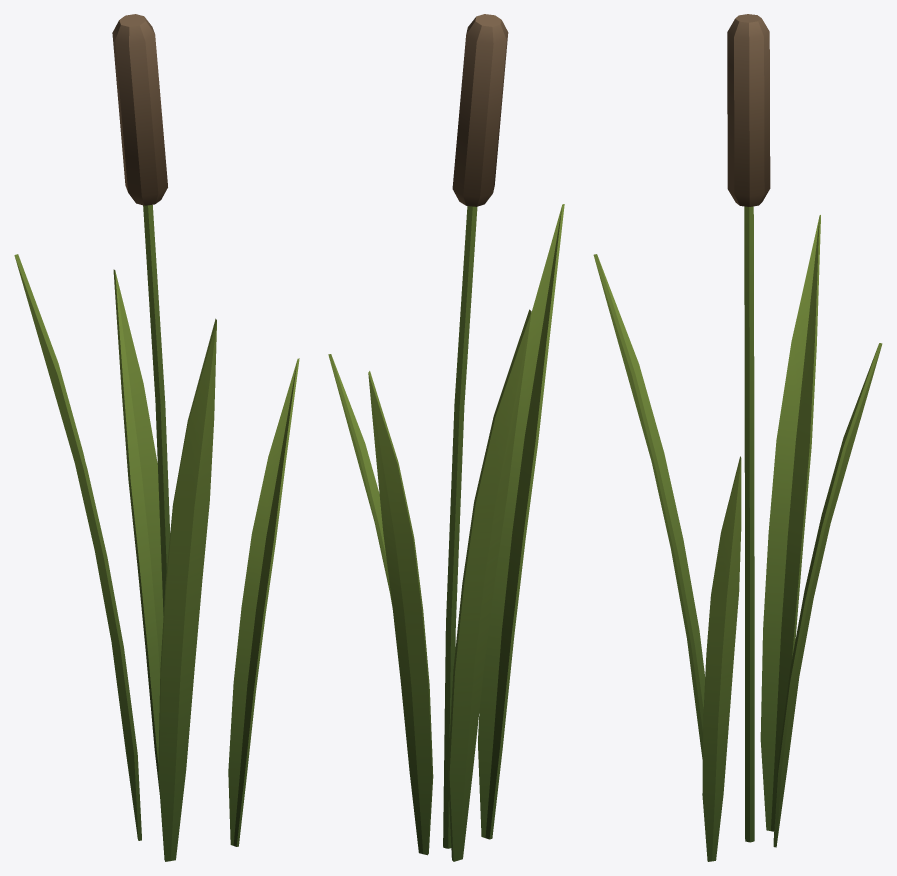
Rendered from PondPlant_06.fbx.
The picture shows the model from 3 angles, left to right: view 1: azimuth 30°, elevation 25°; view 2: azimuth 150°, elevation 25°; view 3: azimuth 270°, elevation 25°; orthographic projection. The views are drawn at different scales.
Visible parts, largest first — view 1: PondPlant_06_LOD0; view 2: PondPlant_06_LOD0; view 3: PondPlant_06_LOD0.
Part boxes in pixels (<box>): PondPlant_06_LOD0: <box>14,14,299,861</box>; PondPlant_06_LOD0: <box>328,14,564,861</box>; PondPlant_06_LOD0: <box>593,14,882,861</box>.
Size of what is drawn, in the model's own units: 0.2102 by 0.686 by 0.2233.
